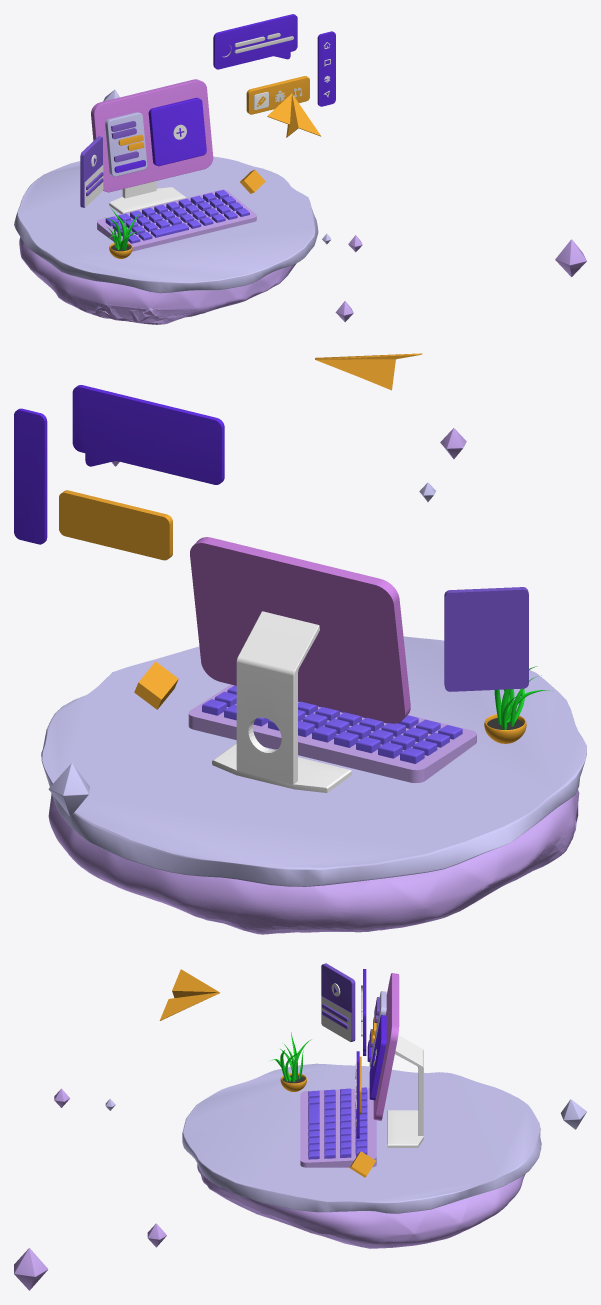
File: PORTFOLIO HERO.glb
3 views of the same model, one above another, from view 1: azimuth 30°, elevation 25°; view 2: azimuth 150°, elevation 25°; view 3: azimuth 270°, elevation 25° (orthographic). The views are drawn at different scales.
Visible parts, largest first — view 1: Cylinder.014, Icosphere.001, Plane.024, Cube.034, Plane.025, Plane.035, Plane.028, Plane.026, Plane.027, Plane.036, Plane.029, Plane.038 (+2 smaller); view 2: Cylinder.014, Plane.024, Icosphere.001, Plane.027, Plane.035, Plane.029, Cube.034, Plane.028, Plane.038, Plane.036, Plane.040, Icosphere.006 (+1 smaller); view 3: Cylinder.014, Icosphere.001, Cube.034, Plane.028, Plane.027, Plane.029, Plane.024, Plane.040, Plane.025, Icosphere.004, Icosphere.006.
Part boxes in pixels (<box>): Cylinder.014: <box>14,156,318,293</box>; Icosphere.001: <box>19,237,296,324</box>; Plane.024: <box>91,79,213,192</box>; Cube.034: <box>105,189,249,243</box>; Plane.025: <box>148,97,206,166</box>; Plane.035: <box>213,14,297,69</box>; Plane.028: <box>97,189,256,251</box>; Plane.026: <box>105,112,147,176</box>; Plane.027: <box>109,181,186,213</box>; Plane.036: <box>317,31,335,106</box>; Plane.029: <box>80,136,103,207</box>; Plane.038: <box>246,76,309,114</box>; Cylinder.014: <box>41,636,586,886</box>; Plane.024: <box>190,537,410,723</box>; Icosphere.001: <box>48,789,579,934</box>; Plane.027: <box>212,611,351,792</box>; Plane.035: <box>72,385,224,484</box>; Plane.029: <box>444,587,528,691</box>; Cube.034: <box>202,685,462,763</box>; Plane.028: <box>188,684,476,782</box>; Plane.038: <box>59,490,172,560</box>; Plane.036: <box>14,408,47,544</box>; Plane.040: <box>315,353,422,390</box>; Icosphere.006: <box>48,763,89,816</box>; Cylinder.014: <box>182,1063,541,1213</box>; Icosphere.001: <box>197,1164,525,1248</box>; Cube.034: <box>308,1087,367,1159</box>; Plane.028: <box>300,1088,376,1167</box>; Plane.027: <box>387,1035,423,1147</box>; Plane.029: <box>321,963,355,1041</box>; Plane.024: <box>373,973,399,1120</box>; Plane.040: <box>159,969,219,1020</box>; Plane.025: <box>369,1015,386,1100</box>; Icosphere.004: <box>14,1248,48,1290</box>; Icosphere.006: <box>560,1099,586,1129</box>.
Size of the model in its own units: 24.07 by 13.77 by 26.66.
